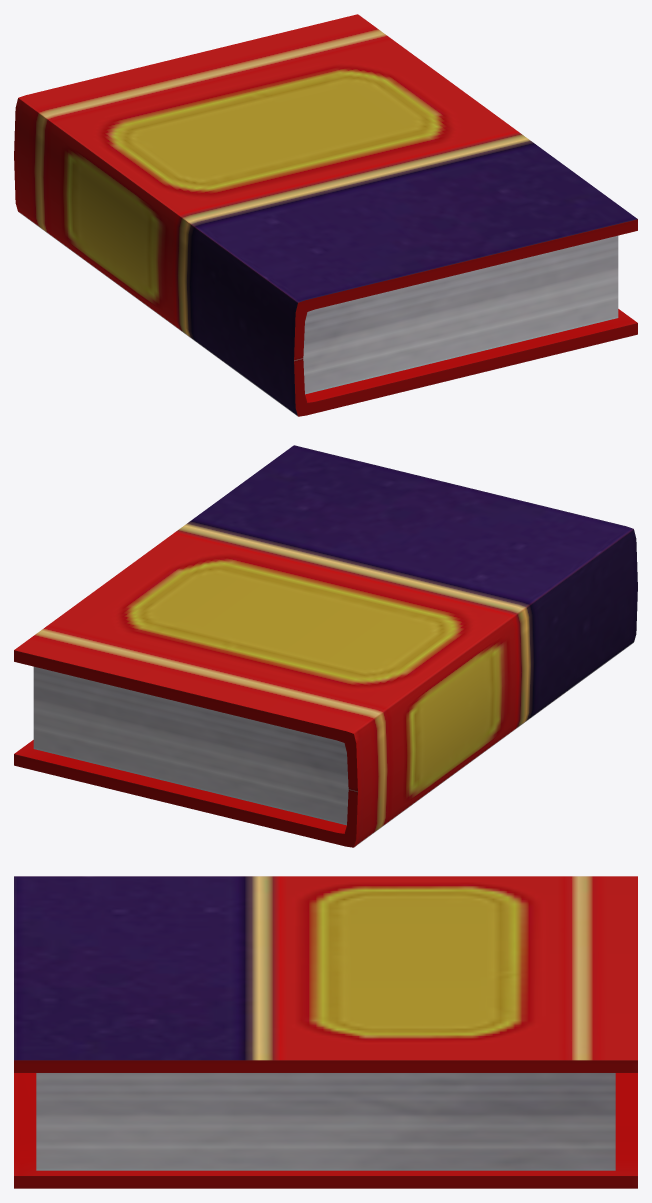
Rendered from ZhiBanShi_01_cidian_01.FBX.
The picture shows the model from 3 angles, top to bottom: view 1: azimuth 30°, elevation 25°; view 2: azimuth 150°, elevation 25°; view 3: azimuth 270°, elevation 25°; orthographic projection. The views are drawn at different scales.
Visible parts, largest first — view 1: ZhiBanShi_shu_08; view 2: ZhiBanShi_shu_08; view 3: ZhiBanShi_shu_08.
Boxes of the visible parts, x1,y1,x2,y2 form: ZhiBanShi_shu_08: [14, 14, 637, 416]; ZhiBanShi_shu_08: [14, 445, 637, 847]; ZhiBanShi_shu_08: [14, 876, 637, 1188].
Size of the model in its own units: 75.33 by 24.16 by 106.
